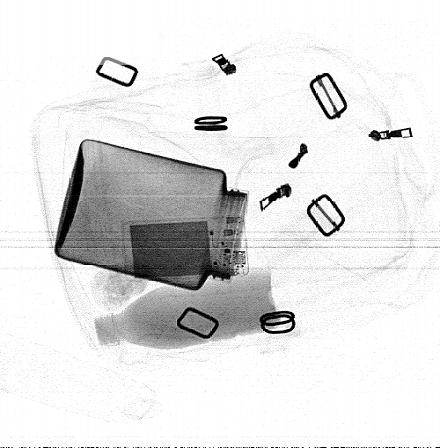Powerbank: (121, 216, 250, 283)
